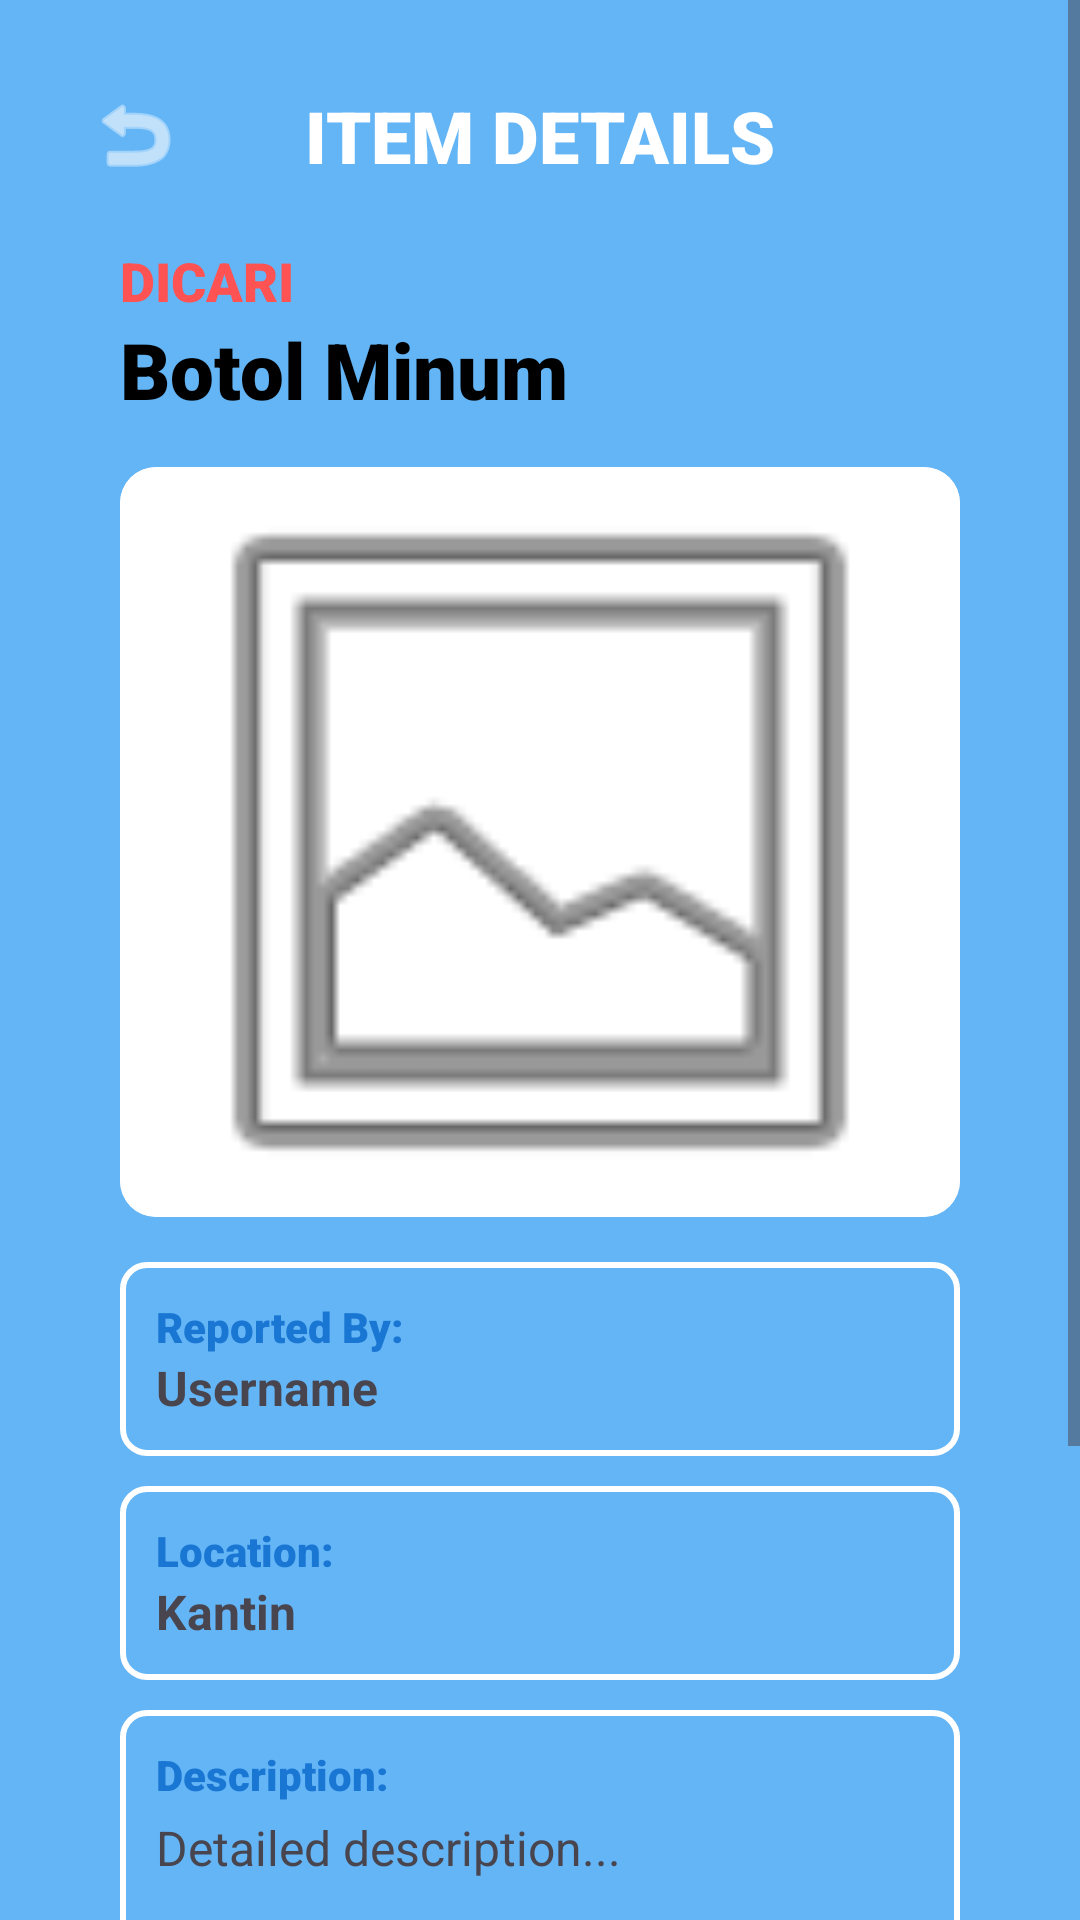

Icons on this 1080x1920 Android screen, each with the point to tap as [x,y]:
revert: [136,136]
